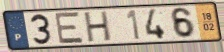1: (125, 9, 142, 41)
3: (29, 13, 52, 46)
4: (144, 8, 167, 41)
6: (169, 7, 197, 40)
E: (54, 11, 86, 46)
H: (83, 10, 113, 44)
